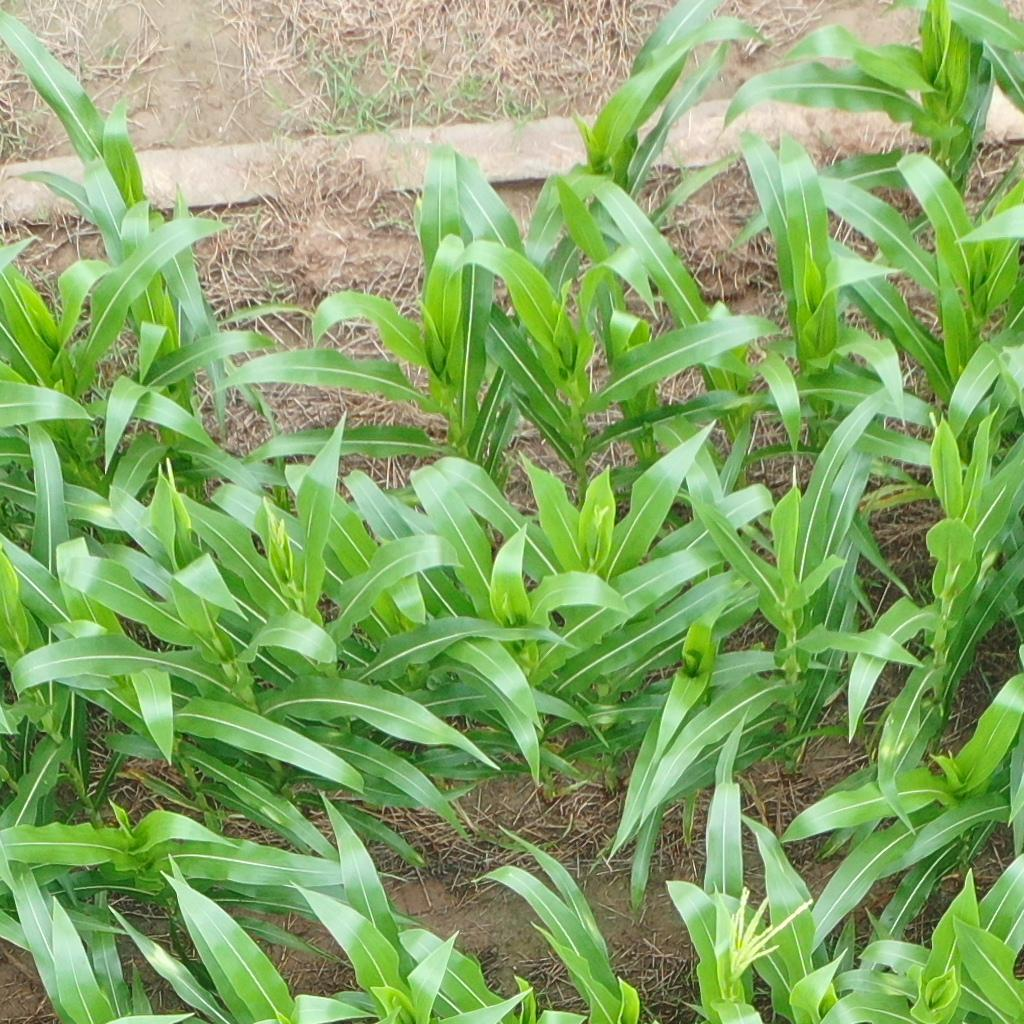Tassel: (707, 886, 815, 981), (260, 497, 291, 558), (590, 501, 612, 530)
